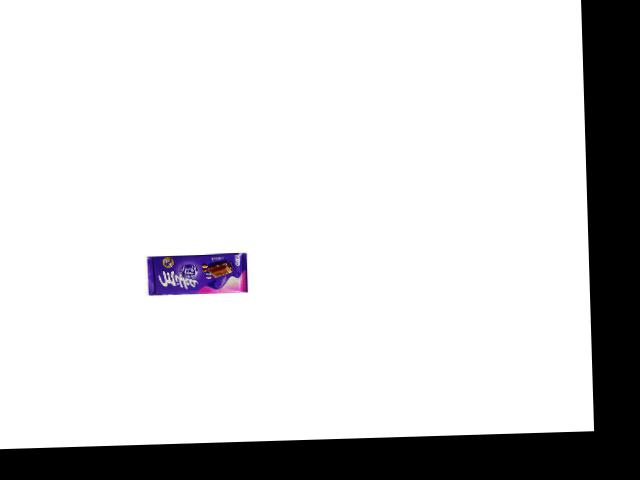chocolate: (146, 251, 247, 296)
